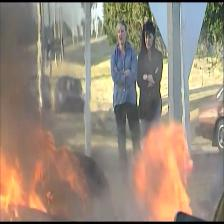fire: (0, 127, 115, 224), (131, 124, 205, 218)
smoke: (0, 4, 90, 127)
